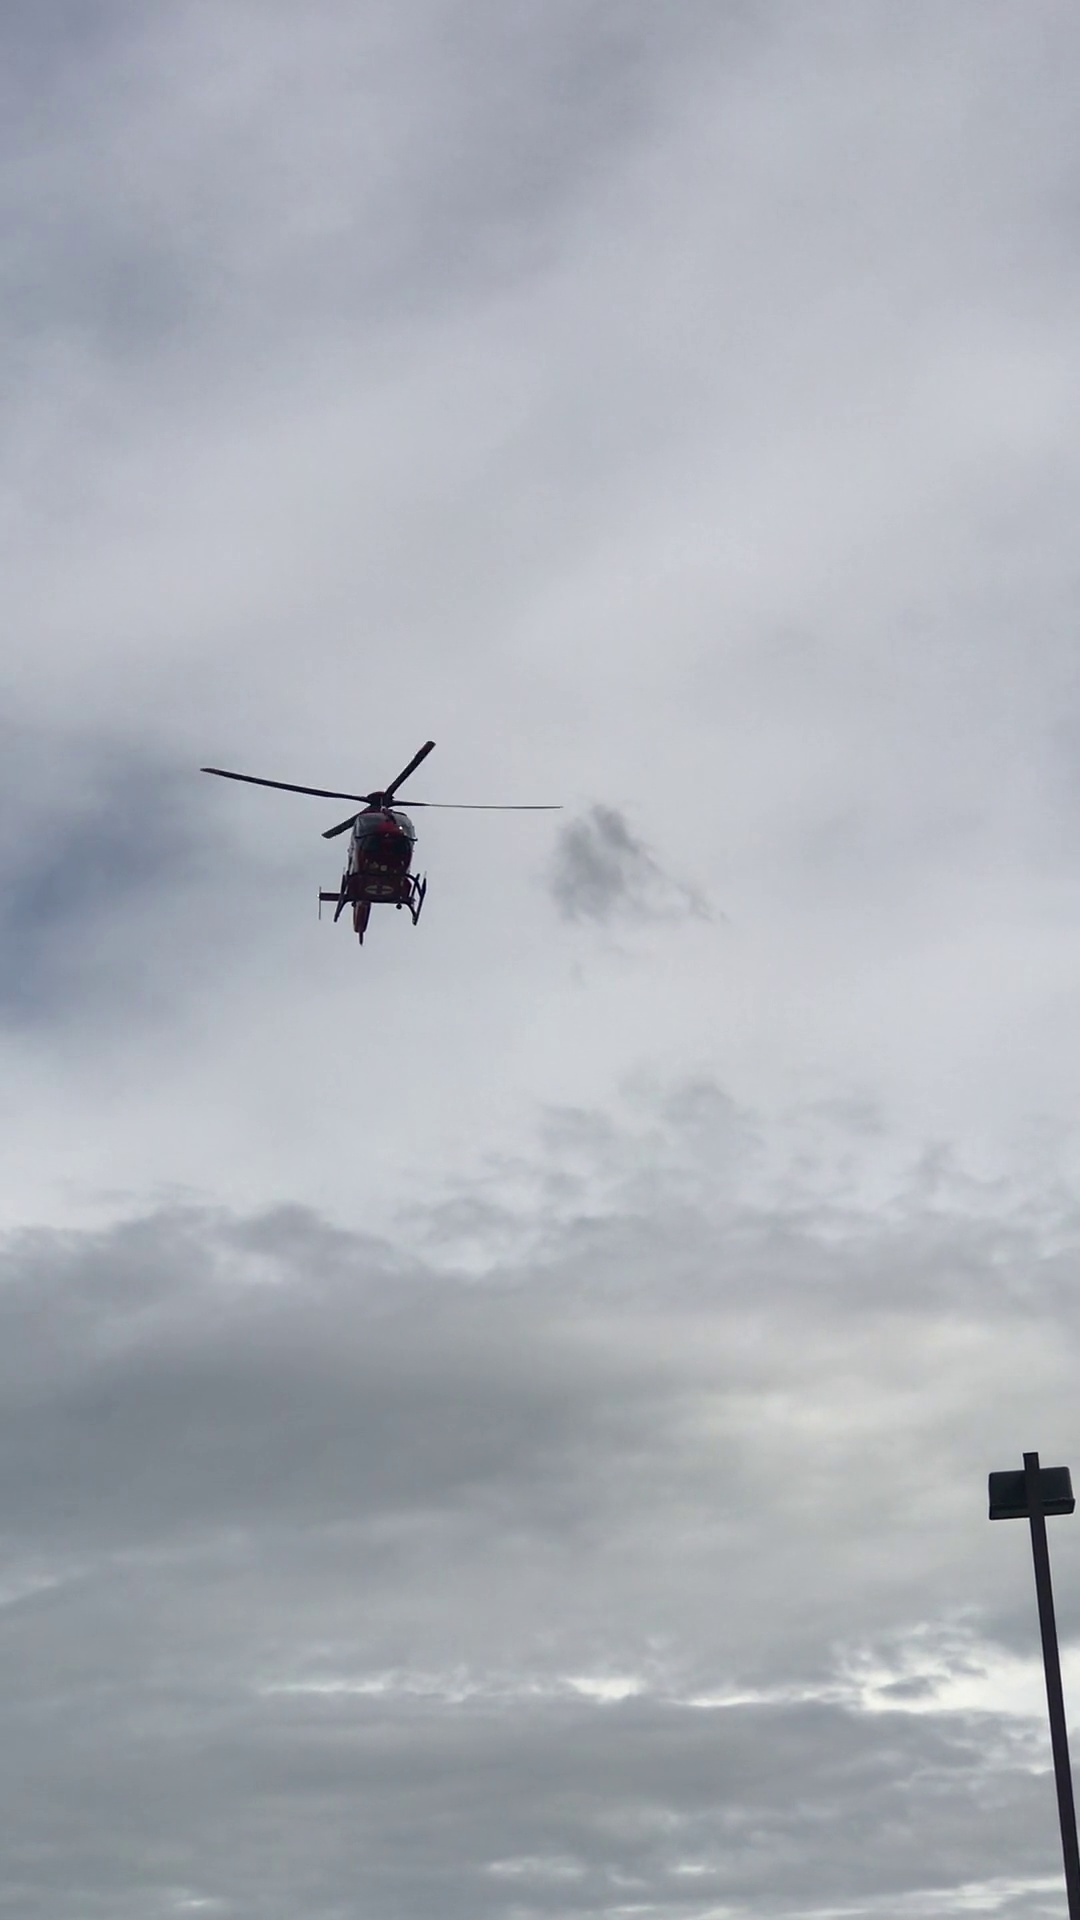heli: (199, 740, 563, 942)
